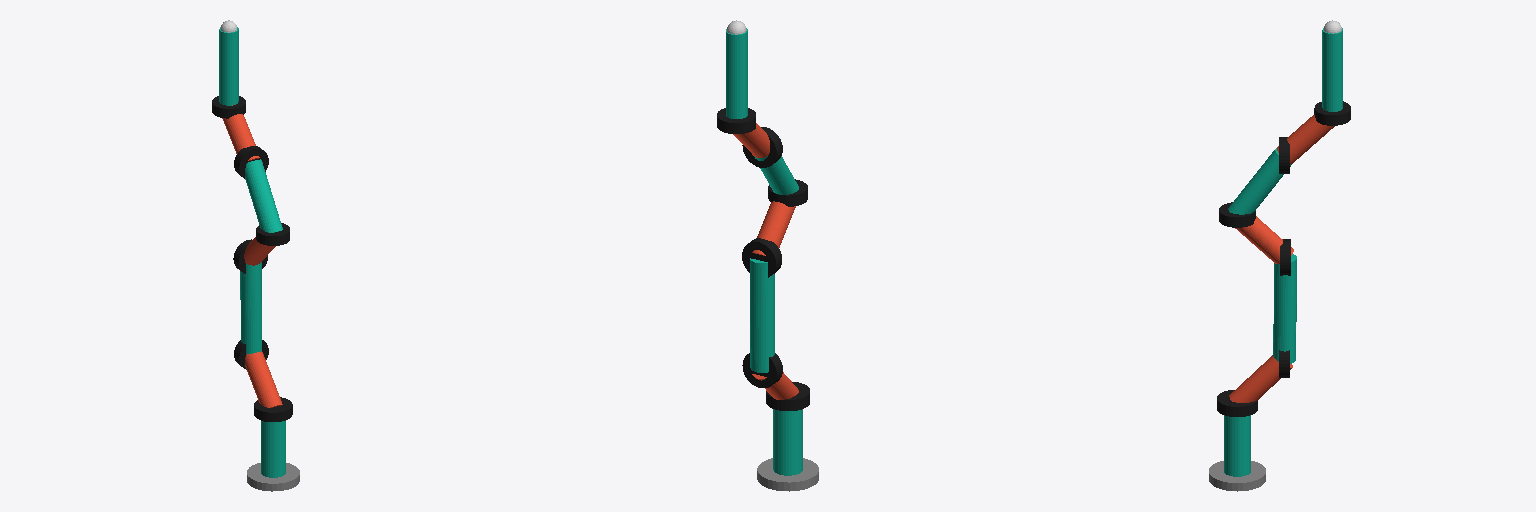
robot.urdf — robot:
<?xml version="1.0" encoding="utf-8"?>
<!--
  6-DOF Robot URDF — roboticstoolbox compatible
  =============================================
  Kinematic chain (SE3 ⊕ Rz convention):
    SE3(0,0,0.065)
    ⊕ Rz(q0) ⊕ SE3(0, 0.041, 0.042; roll=-90°)
    ⊕ Rz(q1) ⊕ SE3(0,-0.098, 0.001; roll=180°)
    ⊕ Rz(q2) ⊕ SE3(0, 0.041, 0.042; roll=-90°)
    ⊕ Rz(q3) ⊕ SE3(0, 0.041, 0.057; roll=-90°)
    ⊕ Rz(q4) ⊕ SE3(0,-0.041, 0.042; roll=+90°)
    ⊕ Rz(q5) ⊕ SE3(0, 0,     0.08;  yaw=180°)

  Joint axes in world frame at q=0 (verified numerically):
    J0 → +Z   J1 → +Y   J2 → -Y   J3 → +Z   J4 → +Y   J5 → +Z

  In URDF <axis> is expressed in the CHILD link frame.
  Since each joint frame IS the child link frame, all axes are <axis xyz="0 0 1">.

  Cylinder rpy values align the URDF cylinder Z-axis with each link's direction:
    link0 → col  : (0, 0, 0.065)         rpy (0,       0, 0)
    link1 → arm  : (0, 0.041, 0.042)     rpy (-0.7728, 0, 0)  = -44.31°
    link2 → arm  : (0,-0.098, 0.001)     rpy (+1.5600, 0, 0)  = +89.42°
    link3 → arm  : (0, 0.041, 0.042)     rpy (-0.7728, 0, 0)
    link4 → arm  : (0, 0.041, 0.057)     rpy (-0.6234, 0, 0)  = -35.73°
    link5 → arm  : (0,-0.041, 0.042)     rpy (+0.7728, 0, 0)  = +44.31°
    link6 → col  : (0, 0,     0.08)      rpy (0,       0, 0)
-->
<robot name="robot">

  <!-- ═══════════════════════════════════════════════════════════
       MATERIALS
  ═══════════════════════════════════════════════════════════ -->
  <material name="teal">   <color rgba="0.11 0.73 0.63 1.0"/> </material>
  <material name="coral">  <color rgba="0.91 0.35 0.24 1.0"/> </material>
  <material name="joint_disk"> <color rgba="0.15 0.15 0.15 1.0"/> </material>
  <material name="base_plate"> <color rgba="0.55 0.55 0.55 1.0"/> </material>
  <material name="ee_ball">    <color rgba="0.85 0.85 0.85 1.0"/> </material>

  <!-- ═══════════════════════════════════════════════════════════
       LINKS
  ═══════════════════════════════════════════════════════════ -->

  <!-- World / mounting frame -->
  <link name="base_link">
    <visual>
      <origin xyz="0 0 -0.004" rpy="0 0 0"/>
      <geometry><cylinder radius="0.025" length="0.008"/></geometry>
      <material name="base_plate"/>
    </visual>
  </link>

  <!--
    link0 — base column
    Carries the visual from (0,0,0) up to (0,0,0.065).
    Joint0 sits at the top of this column.
    Color: TEAL (even index 0)
  -->
  <link name="link0">
    <inertial>
      <mass value="0.10"/>
      <origin xyz="0 0 0.0325" rpy="0 0 0"/>
      <inertia ixx="1e-4" ixy="0" ixz="0" iyy="1e-4" iyz="0" izz="5e-5"/>
    </inertial>
    <!-- Column cylinder -->
    <visual>
      <origin xyz="0 0 0.0325" rpy="0 0 0"/>
      <geometry><cylinder radius="0.012" length="0.065"/></geometry>
      <material name="teal"/>
    </visual>
    <!-- Joint0 disk (top of column) -->
    <visual>
      <origin xyz="0 0 0.065" rpy="0 0 0"/>
      <geometry><cylinder radius="0.018" length="0.010"/></geometry>
      <material name="joint_disk"/>
    </visual>
  </link>

  <!--
    link1 — first arm segment
    Direction: (0, 0.041, 0.042), length=0.0587 m
    Cylinder rpy = (-0.7728, 0, 0) aligns Z with direction.
    Joint1 disk at tip (0, 0.041, 0.042) — axis is Y in world → disk normal is Y.
    Color: CORAL (odd index 1)
  -->
  <link name="link1">
    <inertial>
      <mass value="0.10"/>
      <origin xyz="0 0.0205 0.0210" rpy="0 0 0"/>
      <inertia ixx="1e-4" ixy="0" ixz="0" iyy="1e-4" iyz="0" izz="5e-5"/>
    </inertial>
    <!-- Arm cylinder -->
    <visual>
      <origin xyz="0 0.0205 0.0210" rpy="-0.77277 0 0"/>
      <geometry><cylinder radius="0.010" length="0.0587"/></geometry>
      <material name="coral"/>
    </visual>
    <!-- Joint1 disk — world axis is Y so disk lies in XZ plane, rpy=(π/2,0,0) -->
    <visual>
      <origin xyz="0 0.041 0.042" rpy="1.5708 0 0"/>
      <geometry><cylinder radius="0.016" length="0.010"/></geometry>
      <material name="joint_disk"/>
    </visual>
  </link>

  <!--
    link2 — second arm segment
    Direction: (0, -0.098, 0.001), length=0.0980 m
    Cylinder rpy = (+1.5600, 0, 0) aligns Z with direction.
    Joint2 disk at tip — world axis is -Y → disk normal is Y, rpy=(π/2,0,0).
    Color: TEAL (even index 2)
  -->
  <link name="link2">
    <inertial>
      <mass value="0.10"/>
      <origin xyz="0 -0.0490 0.0005" rpy="0 0 0"/>
      <inertia ixx="1e-4" ixy="0" ixz="0" iyy="1e-4" iyz="0" izz="5e-5"/>
    </inertial>
    <visual>
      <origin xyz="0 -0.0490 0.0005" rpy="1.5600 0 0"/>
      <geometry><cylinder radius="0.010" length="0.0980"/></geometry>
      <material name="teal"/>
    </visual>
    <visual>
      <origin xyz="0 -0.098 0.001" rpy="0 0 0"/>
      <geometry><cylinder radius="0.016" length="0.010"/></geometry>
      <material name="joint_disk"/>
    </visual>
  </link>

  <!--
    link3 — third arm segment
    Direction: (0, 0.041, 0.042), length=0.0587 m
    Cylinder rpy = (-0.7728, 0, 0).
    Joint3 disk at tip — world axis is Z → disk lies in XY plane, rpy=(0,0,0).
    Color: CORAL (odd index 3)
  -->
  <link name="link3">
    <inertial>
      <mass value="0.10"/>
      <origin xyz="0 0.0205 0.0210" rpy="0 0 0"/>
      <inertia ixx="1e-4" ixy="0" ixz="0" iyy="1e-4" iyz="0" izz="5e-5"/>
    </inertial>
    <visual>
      <origin xyz="0 0.0205 0.0210" rpy="-0.77277 0 0"/>
      <geometry><cylinder radius="0.010" length="0.0587"/></geometry>
      <material name="coral"/>
    </visual>
    <visual>
      <origin xyz="0 0.041 0.042" rpy="1.5708 0 0"/>
      <geometry><cylinder radius="0.016" length="0.010"/></geometry>
      <material name="joint_disk"/>
    </visual>
  </link>

  <!--
    link4 — fourth arm segment
    Direction: (0, 0.041, 0.057), length=0.0702 m
    Cylinder rpy = (-0.6234, 0, 0).
    Joint4 disk at tip — world axis is Y → rpy=(π/2,0,0).
    Color: TEAL (even index 4)
  -->
  <link name="link4">
    <inertial>
      <mass value="0.10"/>
      <origin xyz="0 0.0205 0.0285" rpy="0 0 0"/>
      <inertia ixx="1e-4" ixy="0" ixz="0" iyy="1e-4" iyz="0" izz="5e-5"/>
    </inertial>
    <visual>
      <origin xyz="0 0.0205 0.0285" rpy="-0.62345 0 0"/>
      <geometry><cylinder radius="0.010" length="0.0702"/></geometry>
      <material name="teal"/>
    </visual>
    <visual>
      <origin xyz="0 0.041 0.057" rpy="1.5708 0 0"/>
      <geometry><cylinder radius="0.016" length="0.010"/></geometry>
      <material name="joint_disk"/>
    </visual>
  </link>

  <!--
    link5 — fifth arm segment
    Direction: (0, -0.041, 0.042), length=0.0587 m
    Cylinder rpy = (+0.7728, 0, 0).
    Joint5 disk at tip — world axis is Z → rpy=(0,0,0).
    Color: CORAL (odd index 5)
  -->
  <link name="link5">
    <inertial>
      <mass value="0.10"/>
      <origin xyz="0 -0.0205 0.0210" rpy="0 0 0"/>
      <inertia ixx="1e-4" ixy="0" ixz="0" iyy="1e-4" iyz="0" izz="5e-5"/>
    </inertial>
    <visual>
      <origin xyz="0 -0.0205 0.0210" rpy="0.77277 0 0"/>
      <geometry><cylinder radius="0.010" length="0.0587"/></geometry>
      <material name="coral"/>
    </visual>
    <visual>
      <origin xyz="0 -0.041 0.042" rpy="1.5708 0 0"/>
      <geometry><cylinder radius="0.016" length="0.010"/></geometry>
      <material name="joint_disk"/>
    </visual>
  </link>

  <!--
    link6 — wrist / EE column
    Direction: (0, 0, 0.08), length=0.080 m — pure Z, no rotation needed.
    Color: TEAL (even index 6)
  -->
  <link name="link6">
    <inertial>
      <mass value="0.05"/>
      <origin xyz="0 0 0.040" rpy="0 0 0"/>
      <inertia ixx="1e-5" ixy="0" ixz="0" iyy="1e-5" iyz="0" izz="1e-5"/>
    </inertial>
    <visual>
      <origin xyz="0 0 0.040" rpy="0 0 0"/>
      <geometry><cylinder radius="0.009" length="0.080"/></geometry>
      <material name="teal"/>
    </visual>
  </link>

  <!-- End-effector frame (tool0) -->
  <link name="tool0">
    <visual>
      <origin xyz="0 0 0" rpy="0 0 0"/>
      <geometry><sphere radius="0.008"/></geometry>
      <material name="ee_ball"/>
    </visual>
  </link>

  <!-- ═══════════════════════════════════════════════════════════
       JOINTS
  ═══════════════════════════════════════════════════════════ -->

  <!--
    base_link → link0  [FIXED]
    No transform: the base column visual handles the 65 mm rise internally.
    Joint0 origin below already adds the 65 mm offset.
  -->
  <joint name="base_to_link0" type="fixed">
    <parent link="base_link"/>
    <child  link="link0"/>
    <origin xyz="0 0 0" rpy="0 0 0"/>
  </joint>

  <!--
    joint0 (q0): Rz in local frame
    Placed at top of base column: xyz=(0,0,0.065)
    No rotation in origin → local Z = world Z
    World rotation axis at q=0: +Z  ✓
  -->
  <joint name="joint0" type="revolute">
    <parent link="link0"/>
    <child  link="link1"/>
    <origin xyz="0 0 0.065" rpy="0 0 0"/>
    <axis xyz="0 0 1"/>
    <limit lower="-1.8" upper="1.8" effort="10.0" velocity="3.14159265"/>
    <dynamics damping="0.01" friction="0.0"/>
  </joint>

  <!--
    joint1 (q1): Rz in local frame
    Origin = SE3(0, 0.041, 0.042; roll=-90°)
    roll=-90° → local Y becomes world -Z, local Z becomes world +Y
    World rotation axis at q=0: +Y  ✓
  -->
  <joint name="joint1" type="revolute">
    <parent link="link1"/>
    <child  link="link2"/>
    <origin xyz="0 0.041 0.042" rpy="-1.57079632 0 0"/>
    <axis xyz="0 0 1"/>
    <limit lower="-1.8" upper="1.8" effort="10.0" velocity="3.14159265"/>
    <dynamics damping="0.01" friction="0.0"/>
  </joint>

  <!--
    joint2 (q2): Rz in local frame
    Origin = SE3(0, -0.098, 0.001; roll=180°)
    roll=180° flips Y and Z → local Z becomes world -Y
    World rotation axis at q=0: -Y  ✓
  -->
  <joint name="joint2" type="revolute">
    <parent link="link2"/>
    <child  link="link3"/>
    <origin xyz="0 -0.098 0.001" rpy="3.14159265 0 0"/>
    <axis xyz="0 0 1"/>
    <limit lower="-1.8" upper="1.8" effort="10.0" velocity="3.14159265"/>
    <dynamics damping="0.01" friction="0.0"/>
  </joint>

  <!--
    joint3 (q3): Rz in local frame
    Origin = SE3(0, 0.041, 0.042; roll=-90°)
    Accumulated: (-90°)+(180°)+(-90°) = -180°+180° → identity on Z
    World rotation axis at q=0: +Z  ✓
  -->
  <joint name="joint3" type="revolute">
    <parent link="link3"/>
    <child  link="link4"/>
    <origin xyz="0 0.041 0.042" rpy="-1.57079632 0 0"/>
    <axis xyz="0 0 1"/>
    <limit lower="-1.8" upper="1.8" effort="10.0" velocity="3.14159265"/>
    <dynamics damping="0.01" friction="0.0"/>
  </joint>

  <!--
    joint4 (q4): Rz in local frame
    Origin = SE3(0, 0.041, 0.057; roll=-90°)
    Accumulated roll: -90°+180°-90°-90° = -90° → local Z = world +Y
    World rotation axis at q=0: +Y  ✓
  -->
  <joint name="joint4" type="revolute">
    <parent link="link4"/>
    <child  link="link5"/>
    <origin xyz="0 0.041 0.057" rpy="-1.57079632 0 0"/>
    <axis xyz="0 0 1"/>
    <limit lower="-1.8" upper="1.8" effort="10.0" velocity="3.14159265"/>
    <dynamics damping="0.01" friction="0.0"/>
  </joint>

  <!--
    joint5 (q5): Rz in local frame
    Origin = SE3(0, -0.041, 0.042; roll=+90°)
    Accumulated roll: -90°+180°-90°-90°+90° = 0° → local Z = world +Z
    World rotation axis at q=0: +Z  ✓
  -->
  <joint name="joint5" type="revolute">
    <parent link="link5"/>
    <child  link="link6"/>
    <origin xyz="0 -0.041 0.042" rpy="1.57079632 0 0"/>
    <axis xyz="0 0 1"/>
    <limit lower="-3" upper="3" effort="10.0" velocity="3.14159265"/>
    <dynamics damping="0.01" friction="0.0"/>
  </joint>

  <!--
    joint6_ee [FIXED]: link6 → tool0
    Final SE3(0, 0, 0.08; yaw=180°)
    Pure Z translation + 180° yaw flipping the EE X/Y axes.
  -->
  <joint name="joint6_ee" type="fixed">
    <parent link="link6"/>
    <child  link="tool0"/>
    <origin xyz="0 0 0.08" rpy="0 0 3.14159265"/>
  </joint>

</robot>

--- What the picture shows (computed from the rendered views, not written in the file) ---
The picture shows the robot from 3 angles, left to right: view 1: azimuth 30°, elevation 25°; view 2: azimuth 150°, elevation 25°; view 3: azimuth 270°, elevation 25°; orthographic projection.
Robot: robot — 9 links, 8 joints (6 revolute, 2 fixed); root link base_link; default pose: all joints at 0.
Links seen in each view (by area): view 1: link2, link4, link0, link1, link6, link5, link3, base_link; view 2: link2, link0, link6, link3, link4, link5, base_link, link1; view 3: link2, link0, link4, link6, link5, link3, link1, base_link.
Link boxes in pixels (x1,y1,x2,y2): link2: [233, 239, 267, 354]; link4: [234, 146, 282, 232]; link0: [254, 397, 292, 477]; link1: [234, 340, 282, 407]; link6: [219, 27, 238, 105]; link5: [212, 96, 259, 160]; link3: [244, 223, 289, 265]; base_link: [247, 463, 299, 491]; link2: [742, 238, 781, 372]; link0: [766, 382, 809, 475]; link6: [726, 28, 747, 118]; link3: [752, 179, 807, 255]; link4: [742, 127, 798, 194]; link5: [717, 108, 769, 157]; base_link: [757, 458, 818, 491]; link1: [742, 353, 798, 399]; link2: [1273, 239, 1296, 363]; link0: [1217, 390, 1257, 476]; link4: [1228, 137, 1291, 214]; link6: [1322, 28, 1342, 111]; link5: [1277, 101, 1350, 163]; link3: [1219, 202, 1293, 263]; link1: [1229, 350, 1292, 402]; base_link: [1209, 461, 1265, 491].
Bounding box of the posed robot: 0.05 × 0.124 × 0.44 m (x, y, z).
Geometry: primitives only (box / cylinder / sphere), no mesh files.
